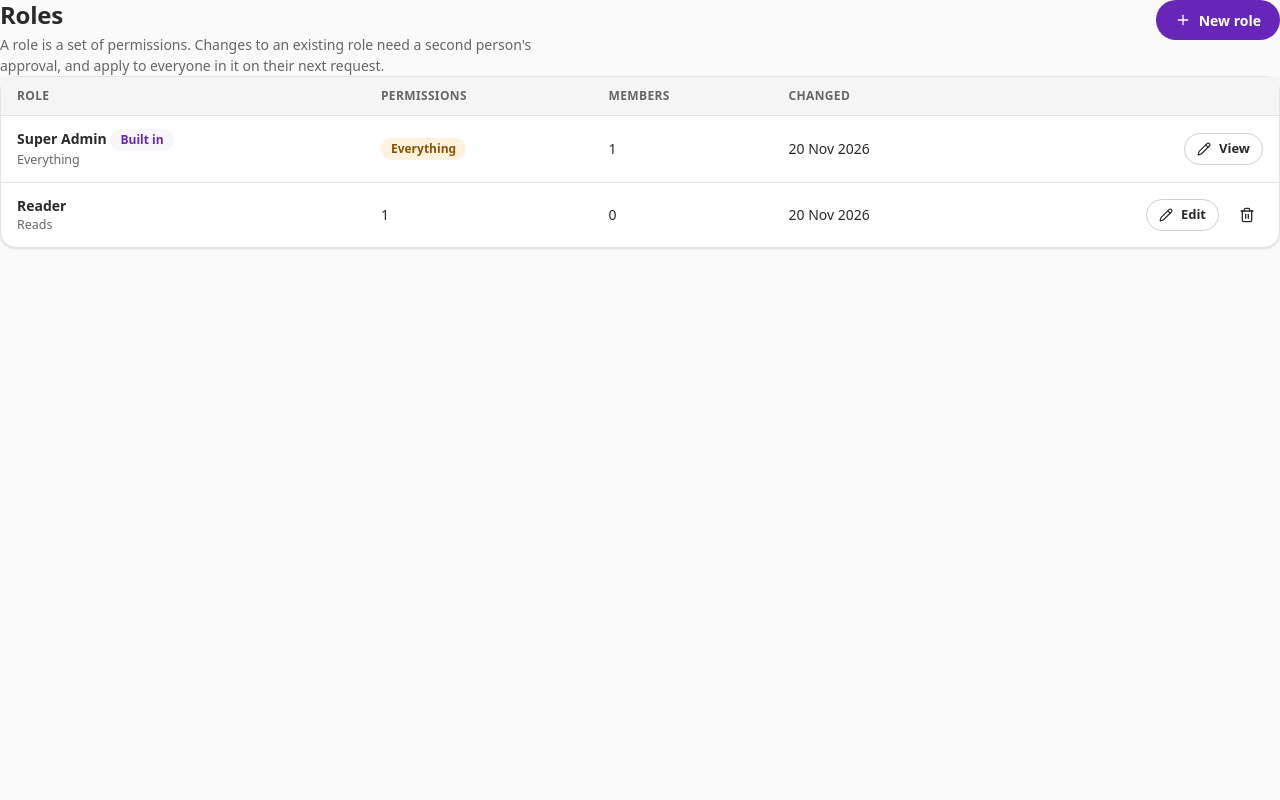
roles and staff › explains that editing a role is sent for approval, and protects the Super Admin role
Click the button "Edit" at {"x": 1182, "y": 215}, box [1146,199,1219,231]
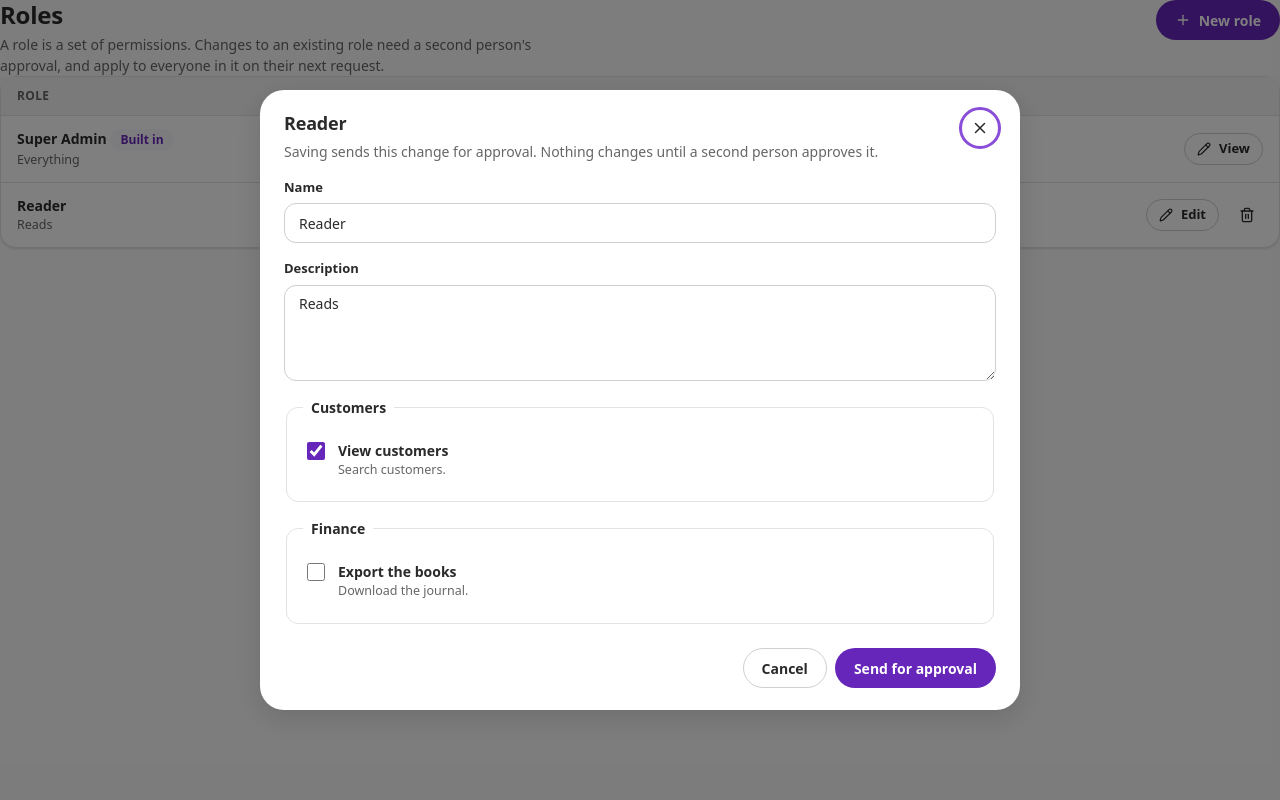
Check: the text "Nothing changes until a second person approves" is shown, box [284,142,878,160]
Click the button "Cancel" at {"x": 785, "y": 668}, box [743,648,827,688]
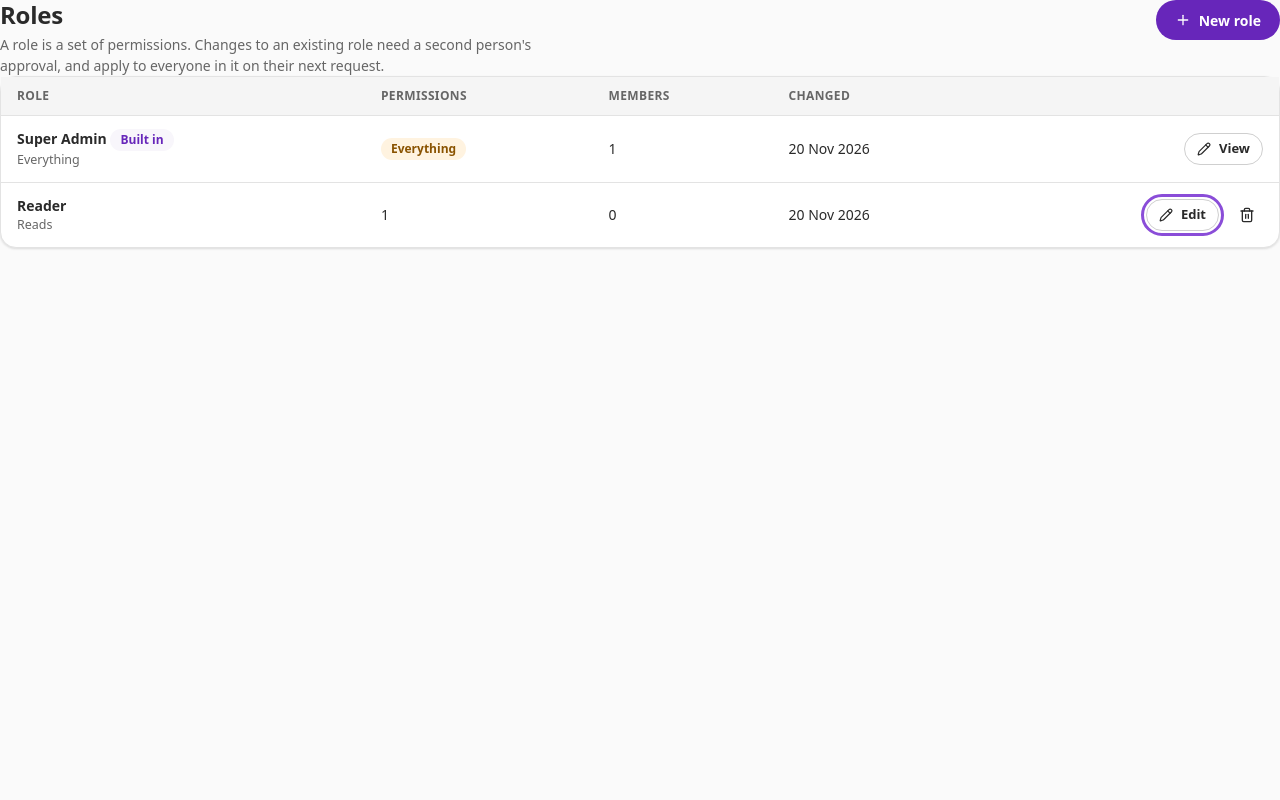
Click the button "View" at {"x": 1224, "y": 149}, box [1184,133,1263,165]
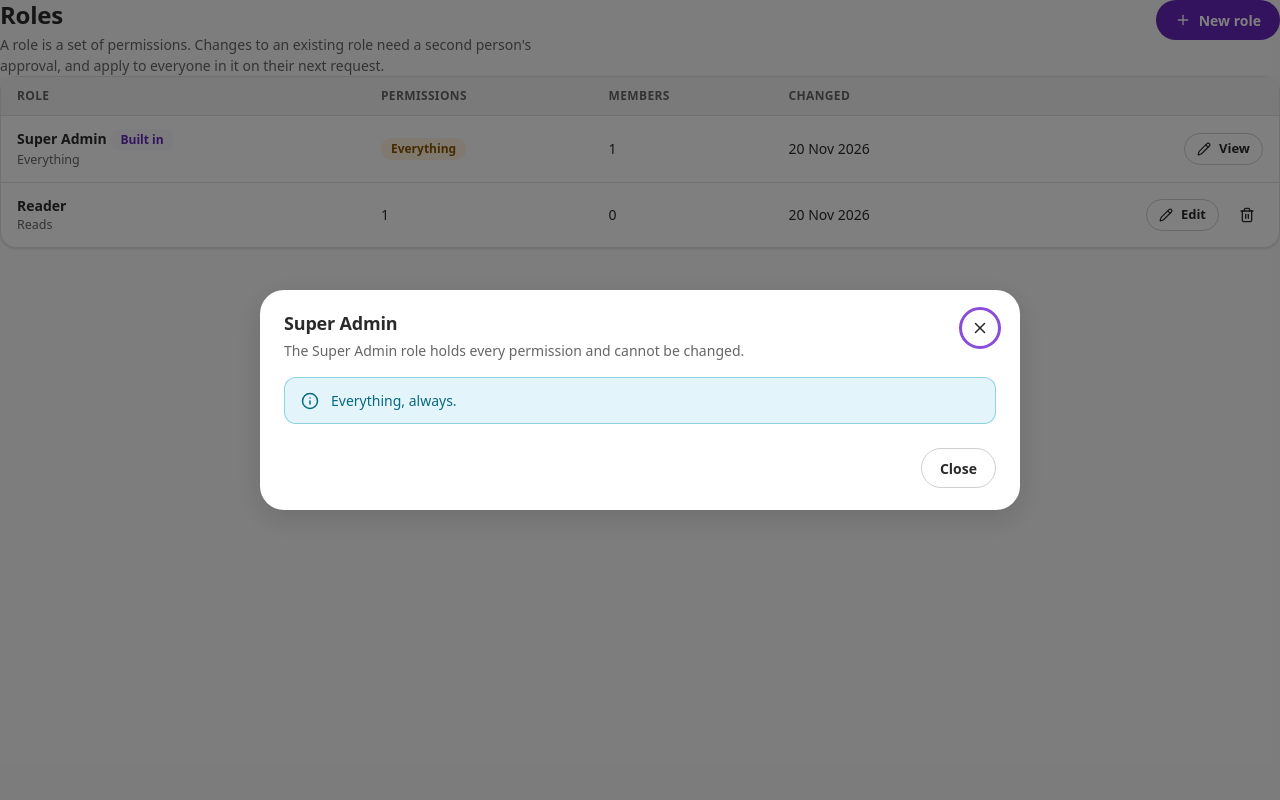
Check: the text "cannot be changed" is shown, box [284,341,744,360]
